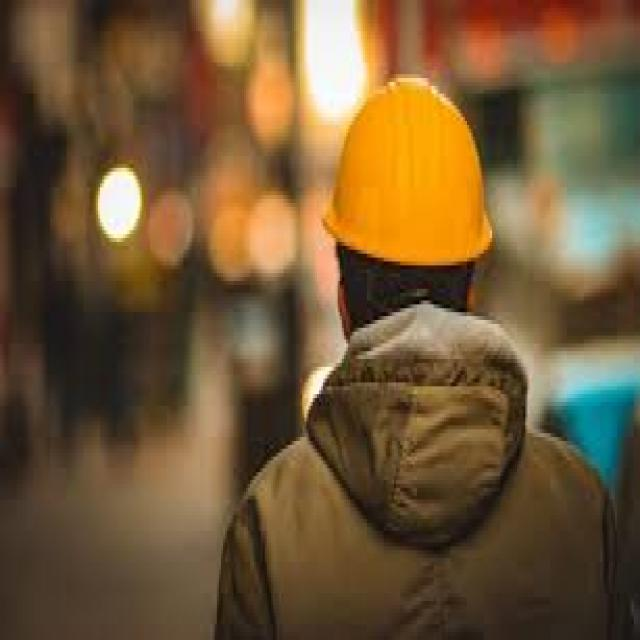Safety-Helmet: (317, 62, 502, 292)
